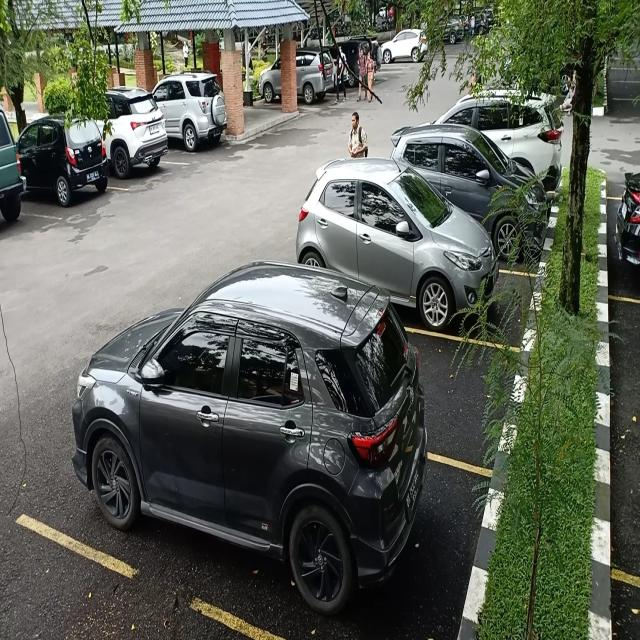occupied: (70, 348, 418, 623), (392, 223, 516, 348), (25, 145, 111, 219), (110, 95, 169, 194)
